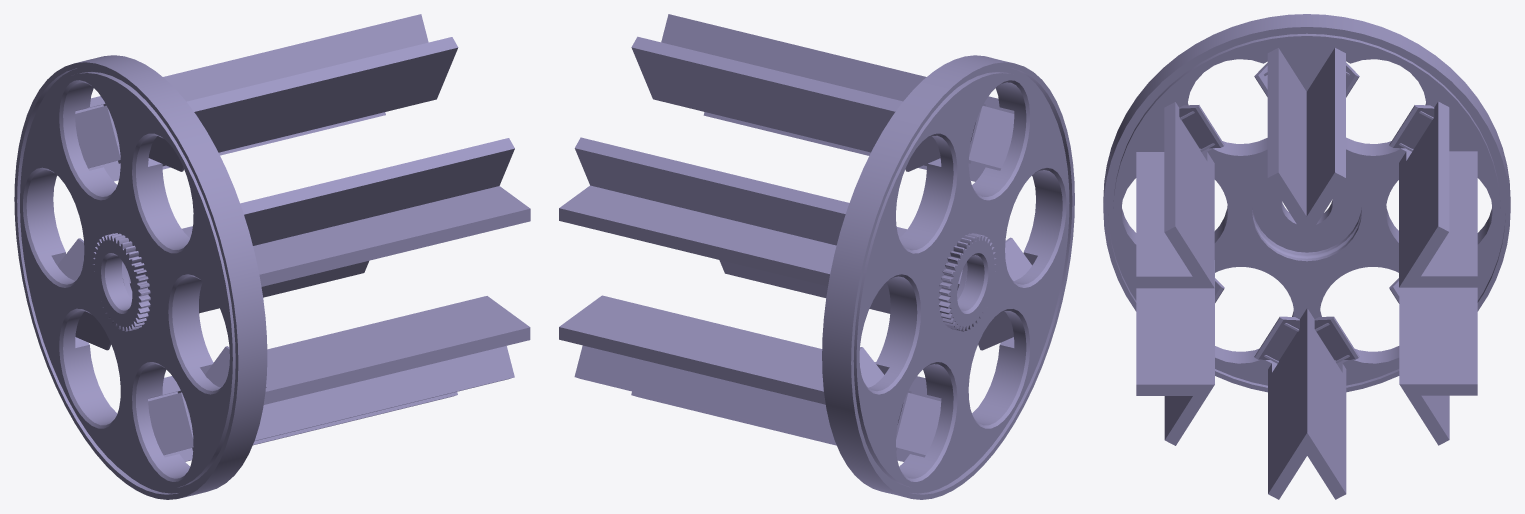
The model's file is BPL00-PRI-3000_final v1.fbx.
3 views of the same model, side by side, from view 1: azimuth 30°, elevation 25°; view 2: azimuth 150°, elevation 25°; view 3: azimuth 270°, elevation 25° (orthographic). The views are drawn at different scales.
Visible parts, largest first — view 1: Body1, Body12, Body6, Body11, Body4, Body9, Body2; view 2: Body1, Body8, Body10, Body7, Body2, Body13, Body4; view 3: Body1, Body8, Body6, Body10, Body12.
Boxes of the visible parts, x1,y1,x2,y2 form: Body1: (14, 14, 530, 499); Body12: (75, 105, 120, 168); Body6: (148, 392, 193, 455); Body11: (75, 311, 111, 350); Body4: (57, 238, 84, 280); Body9: (148, 136, 183, 171); Body2: (205, 346, 229, 387); Body1: (559, 14, 1074, 499); Body8: (969, 106, 1014, 168); Body10: (896, 392, 941, 455); Body7: (978, 311, 1013, 350); Body2: (1005, 237, 1031, 280); Body13: (905, 136, 940, 171); Body4: (859, 347, 884, 387); Body1: (1103, 14, 1510, 499); Body8: (1179, 105, 1224, 151); Body6: (1254, 316, 1299, 363); Body10: (1314, 316, 1359, 363); Body12: (1389, 105, 1434, 151).
Bounding box in the file's own units: 660 × 800 × 800.
